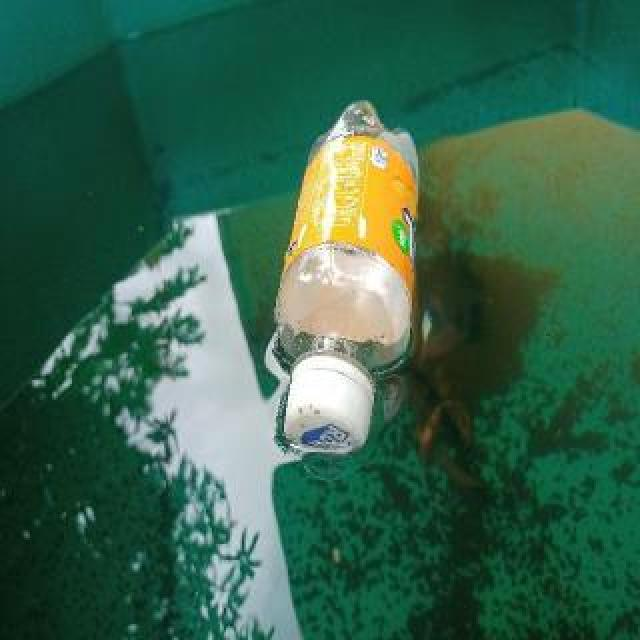Bottle: (270, 96, 430, 477)
